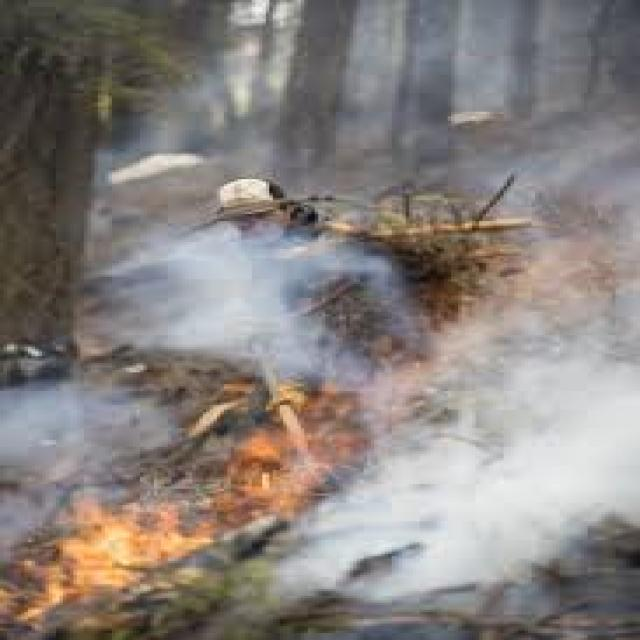Fire: (0, 431, 356, 619)
Smoke: (255, 346, 640, 614), (501, 67, 640, 581), (359, 14, 640, 146), (146, 235, 306, 334)
